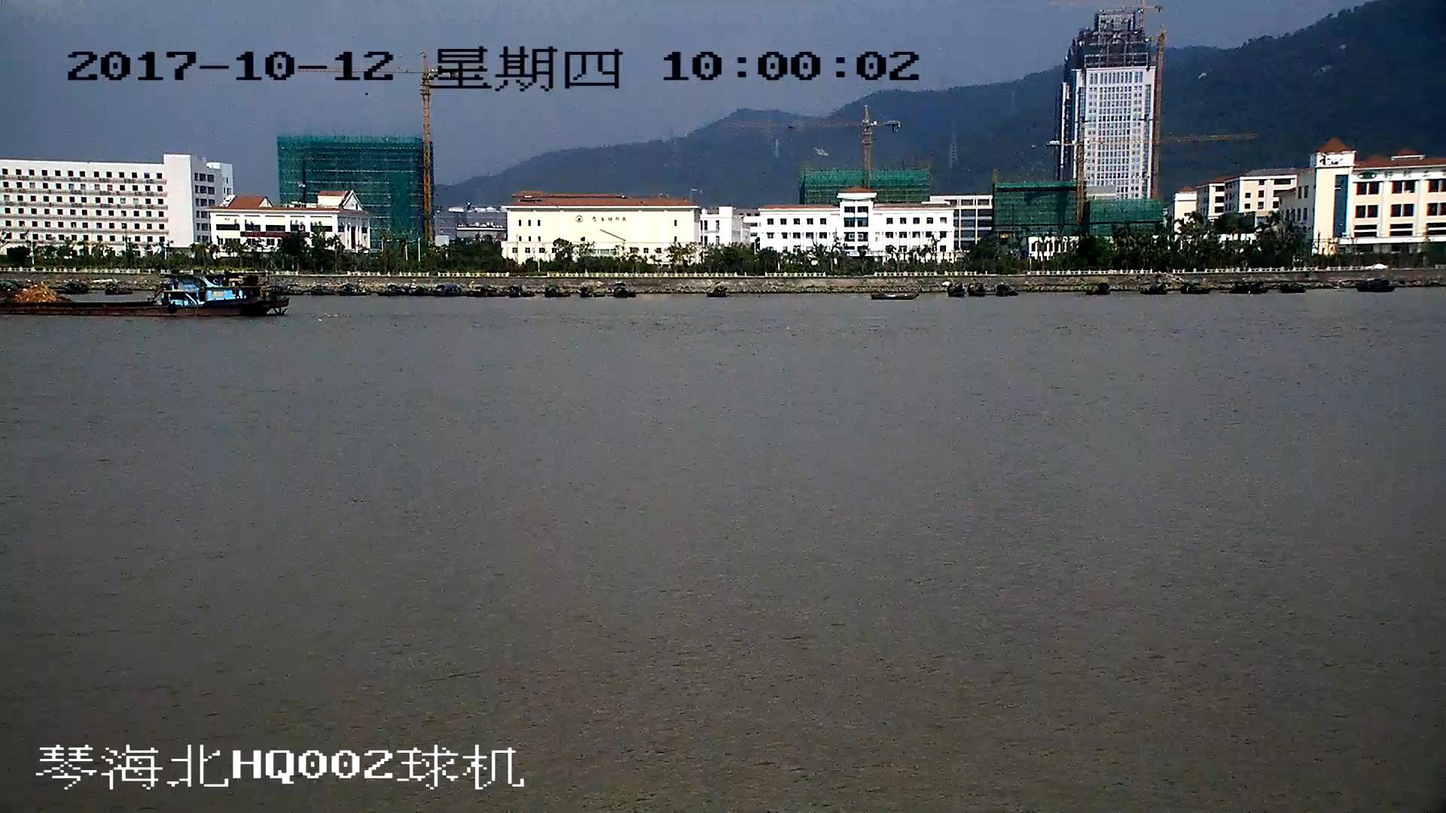ore carrier: (0, 269, 285, 317)
